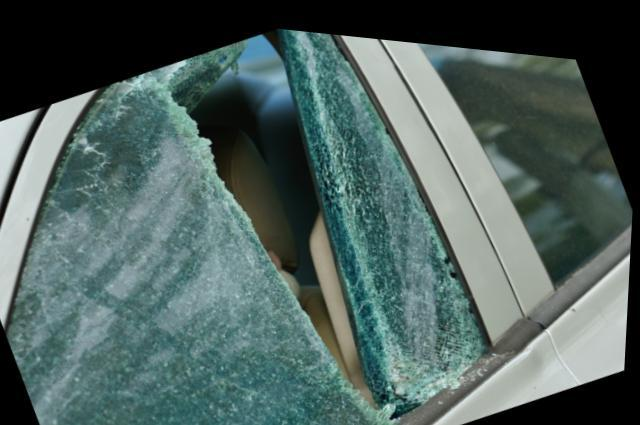glass shatter: (9, 22, 492, 425)
